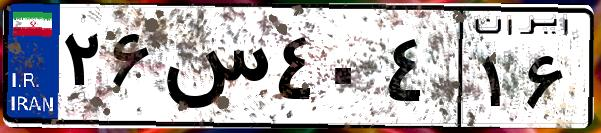0: (330, 28, 385, 110)
1: (475, 38, 525, 113)
2: (57, 26, 110, 100)
4: (270, 28, 330, 110), (385, 28, 445, 110)
6: (525, 38, 570, 115), (110, 28, 158, 98)
س: (158, 20, 270, 120)
